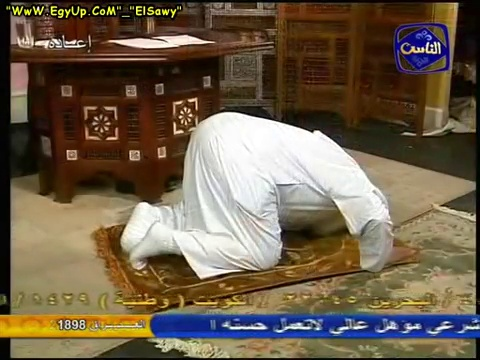sujud: (120, 110, 398, 274)
